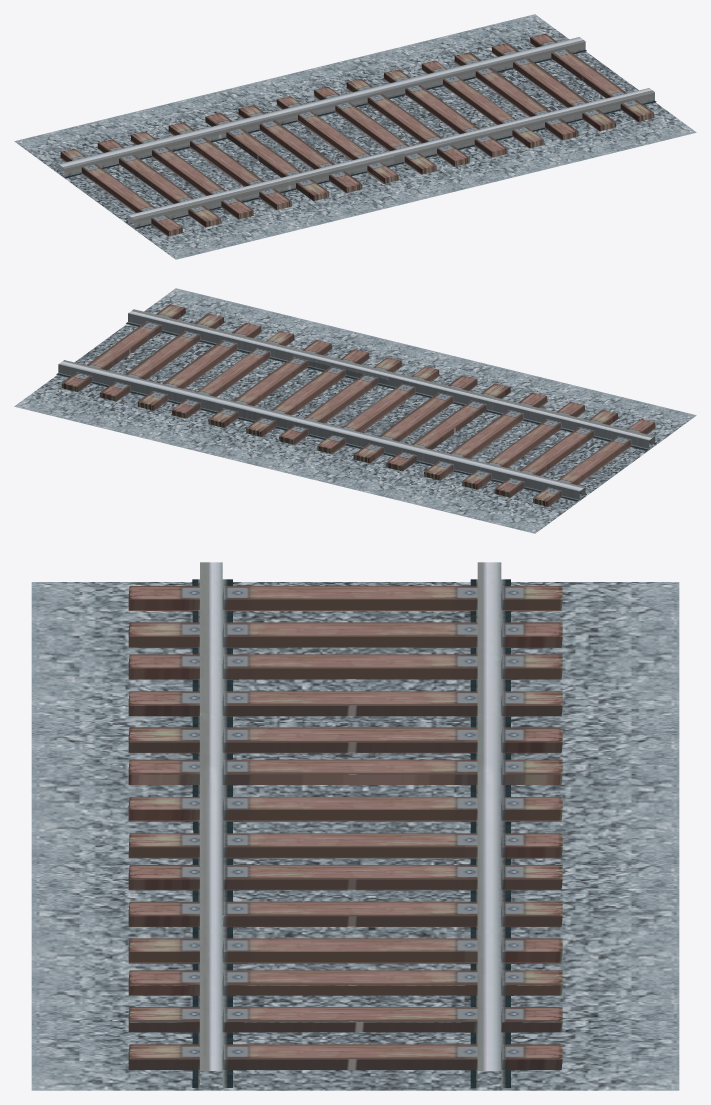
Rendered from TrainTrackswGravel.fbx.
3 views of the same model, one above another, from view 1: azimuth 30°, elevation 25°; view 2: azimuth 150°, elevation 25°; view 3: azimuth 270°, elevation 25° (orthographic). The views are drawn at different scales.
Parts seen in each view (by area): view 1: TrainTrackGravel, TrainTracks; view 2: TrainTrackGravel, TrainTracks; view 3: TrainTrackGravel, TrainTracks.
Boxes of the visible parts, left/top/right/bottom form: TrainTrackGravel: left=14, top=14, right=696, bottom=259; TrainTracks: left=56, top=33, right=656, bottom=236; TrainTrackGravel: left=14, top=288, right=696, bottom=533; TrainTracks: left=56, top=304, right=656, bottom=506; TrainTrackGravel: left=31, top=582, right=679, bottom=1090; TrainTracks: left=128, top=562, right=562, bottom=1087.
Size of the model in its own units: 1118 by 20.07 by 602.
